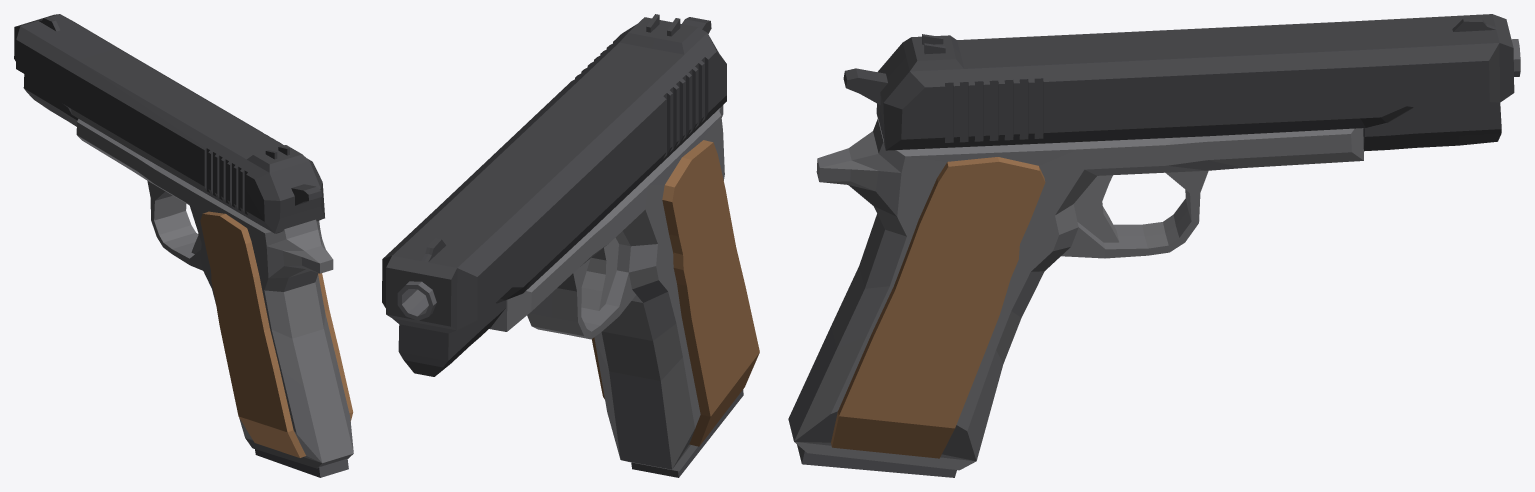
Rendered from pistol_world.glb.
The picture shows the model from 3 angles, left to right: view 1: azimuth 30°, elevation 25°; view 2: azimuth 150°, elevation 25°; view 3: azimuth 270°, elevation 25°; orthographic projection. The views are drawn at different scales.
Visible parts, largest first — view 1: Gun; view 2: Gun; view 3: Gun.
Part boxes in pixels (box(x1,y1,x2,y2)): Gun: box(14, 14, 353, 477); Gun: box(382, 14, 759, 477); Gun: box(788, 14, 1520, 477).
Size of the model in its own units: 0.0574 by 0.1554 by 0.2402.
